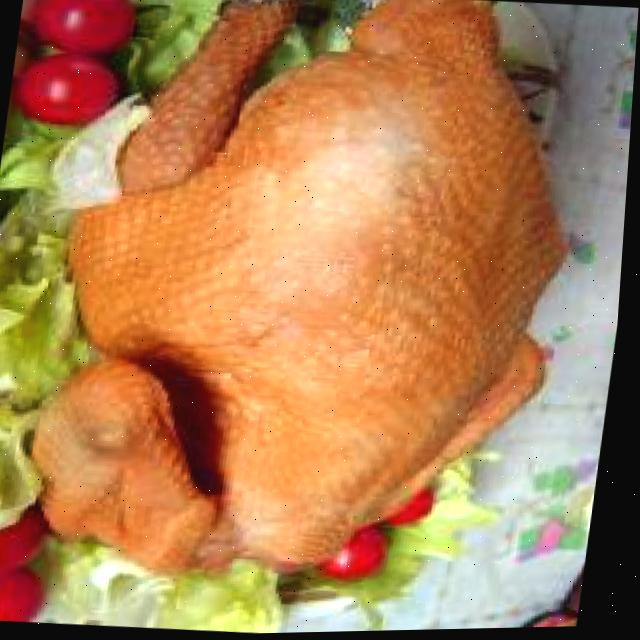鸡肉料理 含炸鸡: (20, 0, 618, 604)
